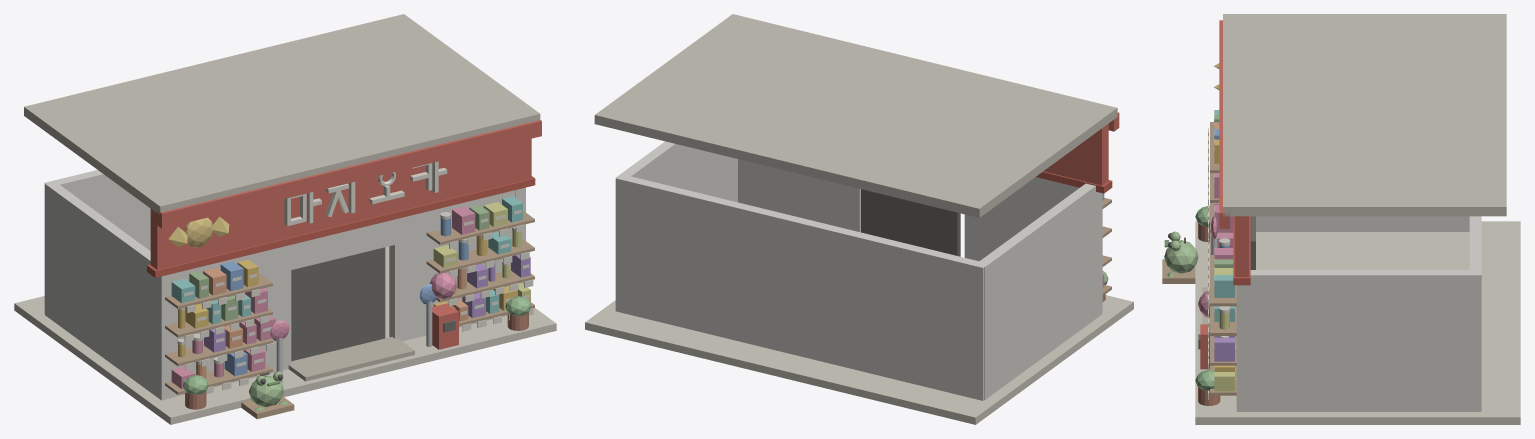
Rendered from machioka.glb.
3 views of the same model, side by side, from view 1: azimuth 30°, elevation 25°; view 2: azimuth 150°, elevation 25°; view 3: azimuth 270°, elevation 25° (orthographic). The views are drawn at different scales.
Parts seen in each view (by area): view 1: part_13, part_23, part_15, part_16, part_01, part_09, part_24, part_18, part_10, part_12, part_04, part_07 (+9 smaller); view 2: part_23, part_13, part_16, part_01, part_15, part_10; view 3: part_13, part_23, part_16, part_09, part_15, part_07, part_18, part_17, part_04, part_06, part_08, part_11 (+3 smaller).
Part boxes in pixels (box(x1,y1,x2,y2)): part_13: box(24, 14, 540, 215); part_23: box(44, 170, 525, 400); part_15: box(150, 120, 541, 349); part_16: box(14, 246, 556, 424); part_01: box(291, 247, 455, 361); part_09: box(165, 210, 534, 419); part_24: box(183, 161, 533, 398); part_18: box(171, 206, 475, 388); part_10: box(147, 176, 535, 277); part_12: box(288, 337, 414, 381); part_04: box(171, 196, 522, 324); part_07: box(189, 205, 489, 406); part_23: box(615, 141, 1102, 400); part_13: box(594, 14, 1117, 217); part_16: box(585, 295, 1133, 424); part_01: box(861, 189, 960, 256); part_15: box(1044, 112, 1119, 185); part_10: box(1036, 171, 1112, 193); part_13: box(1223, 14, 1506, 216); part_23: box(1236, 216, 1481, 411); part_16: box(1195, 221, 1520, 424); part_09: box(1162, 122, 1236, 395); part_15: box(1200, 20, 1248, 369); part_07: box(1164, 114, 1233, 273); part_18: box(1198, 173, 1233, 317); part_17: box(1214, 268, 1234, 391); part_04: box(1214, 110, 1234, 321); part_06: box(1195, 206, 1214, 390); part_08: box(1214, 336, 1234, 361); part_11: box(1198, 223, 1220, 405).
Bounding box in the file's own units: 13.4 × 6.9 × 10.35.
